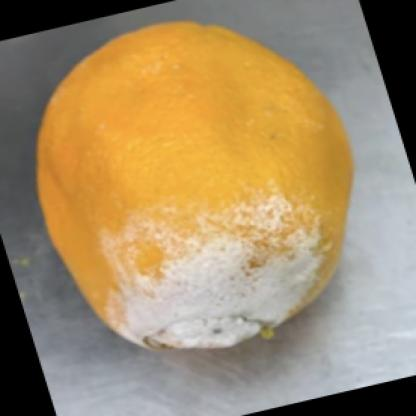rotten: (39, 25, 356, 350)
